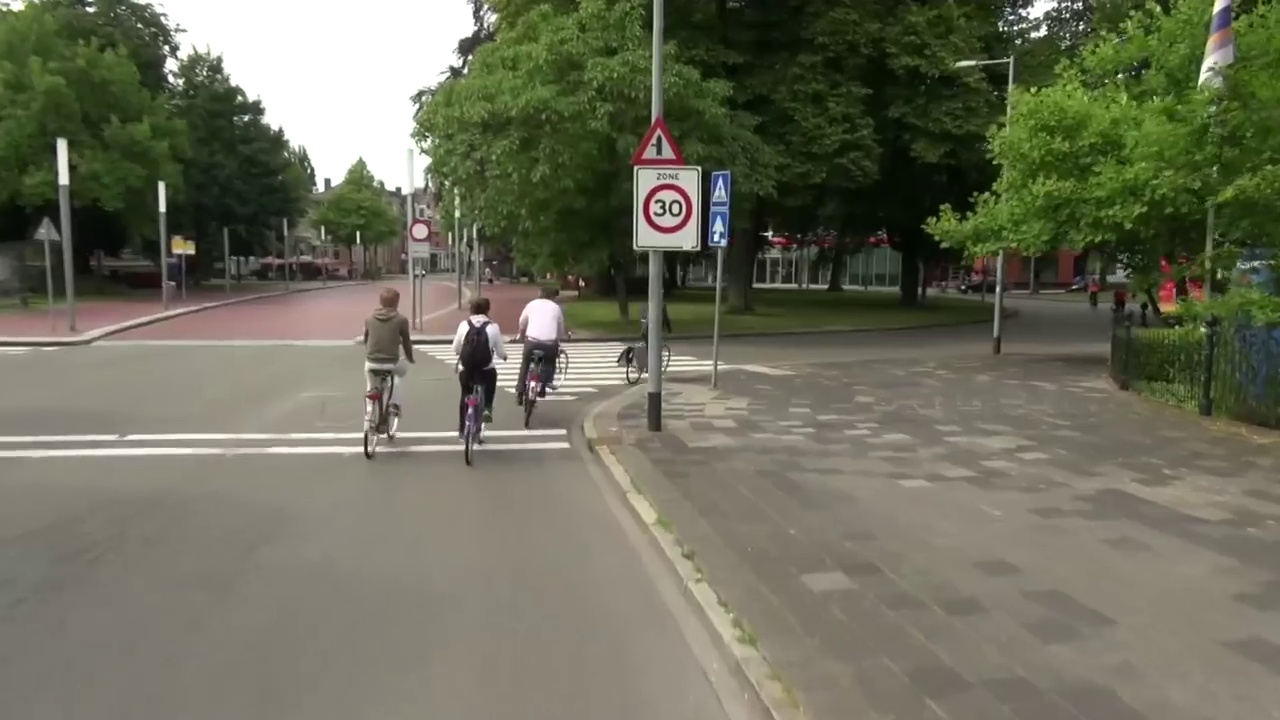cyclist_back: (349, 289, 407, 460), (515, 280, 569, 435), (455, 291, 502, 461)
